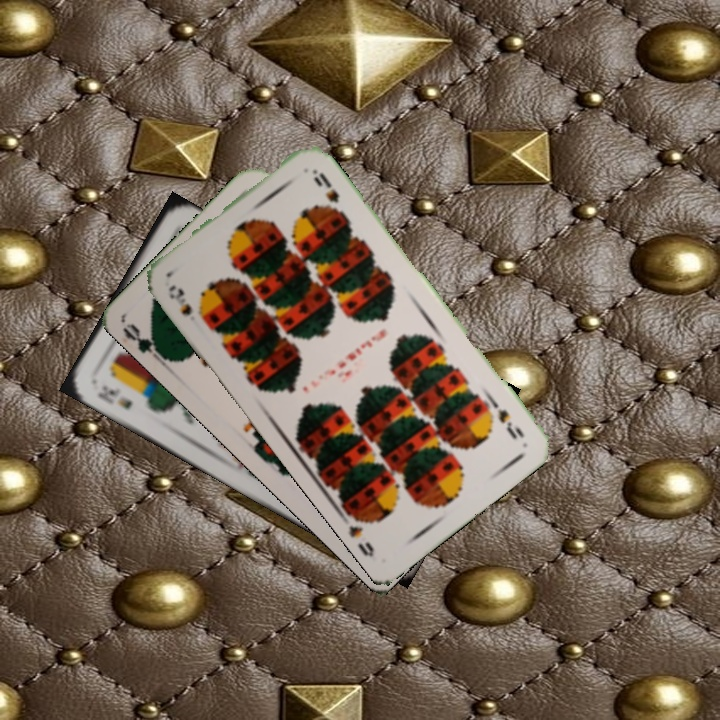EK: (92, 381, 135, 412)
GO: (120, 319, 172, 369)
S9: (164, 281, 209, 326), (493, 404, 527, 442)
